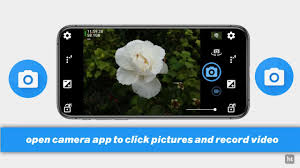camera: (200, 61, 221, 82)
